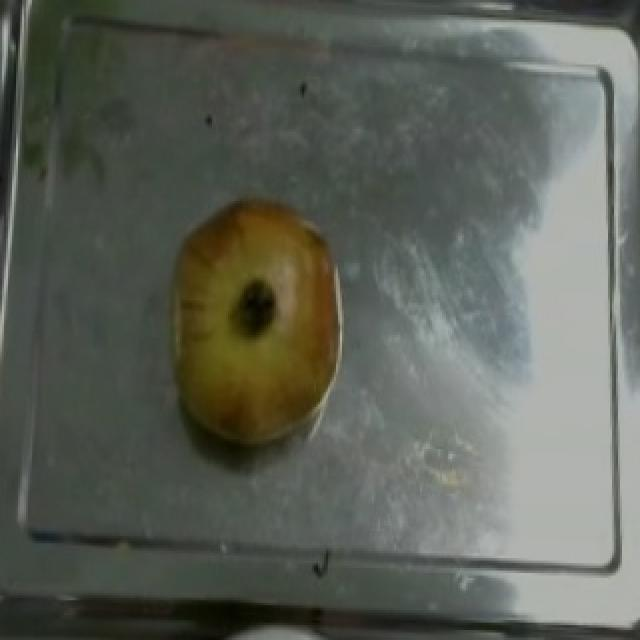fruit: (156, 179, 358, 404)
